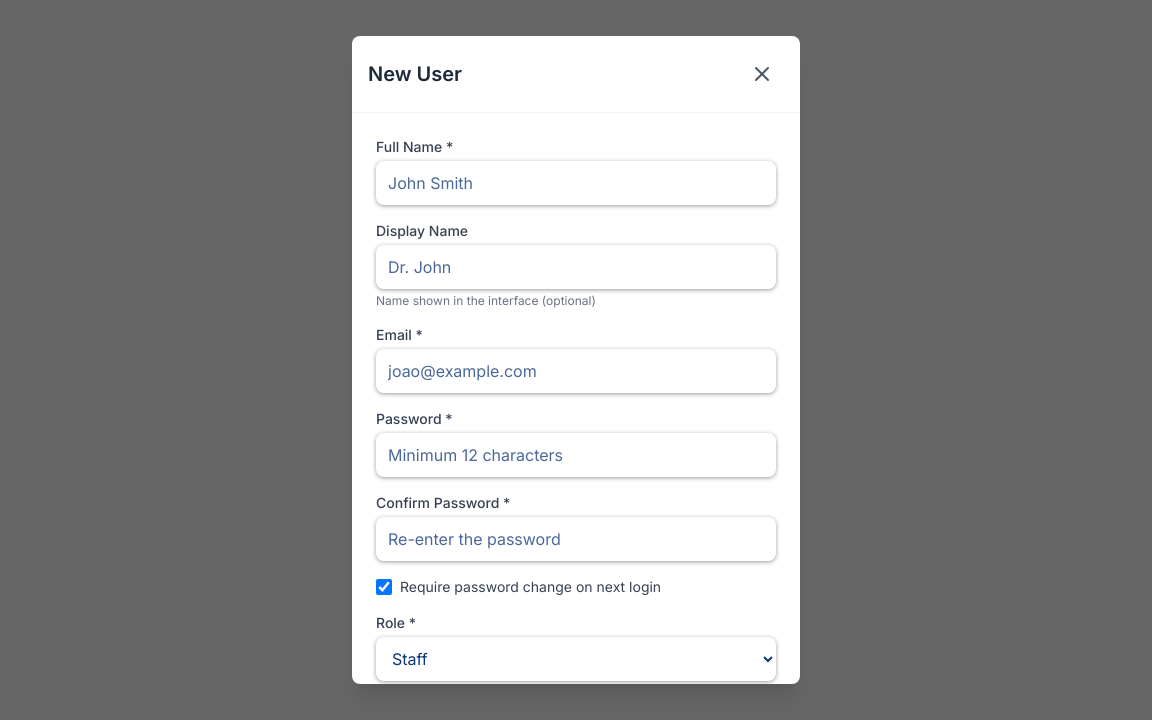
Test case: UserForm › Create Mode › should validate email format
Note: Fill form with invalid email
Type "John Doe" into the field labelled "Full Name *" at x=576, y=183, box [376, 161, 776, 205]
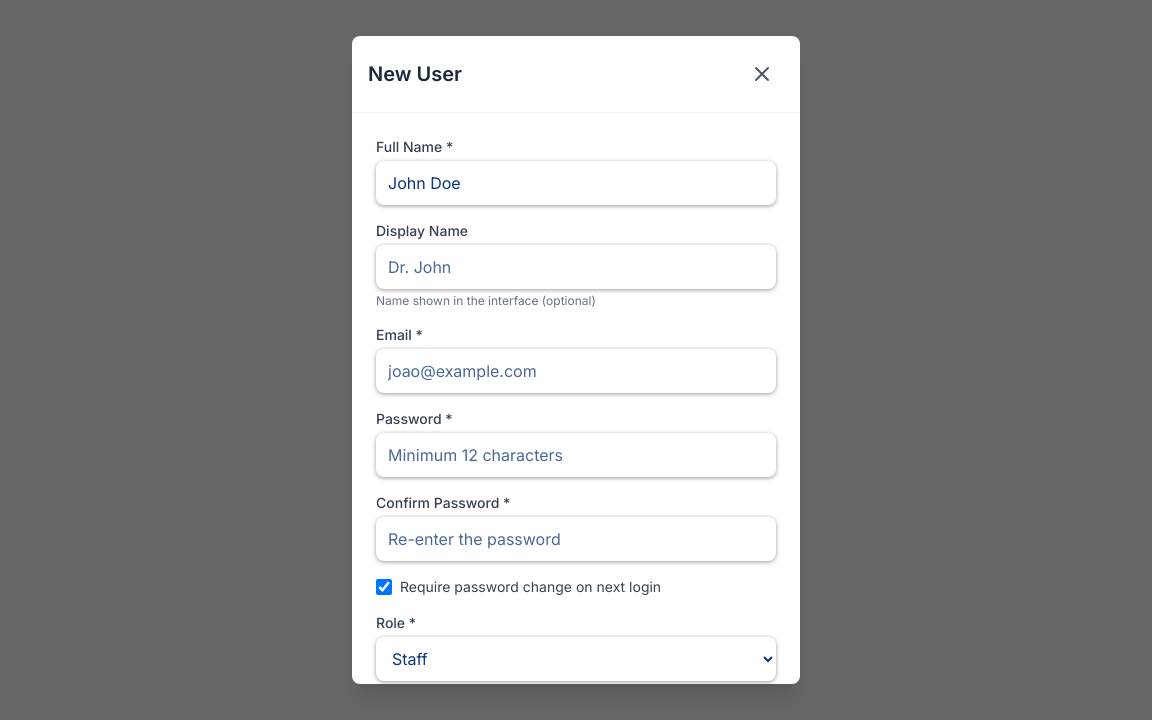
Type "invalid-email" into the field labelled "Email *" at x=576, y=371, box [376, 349, 776, 393]
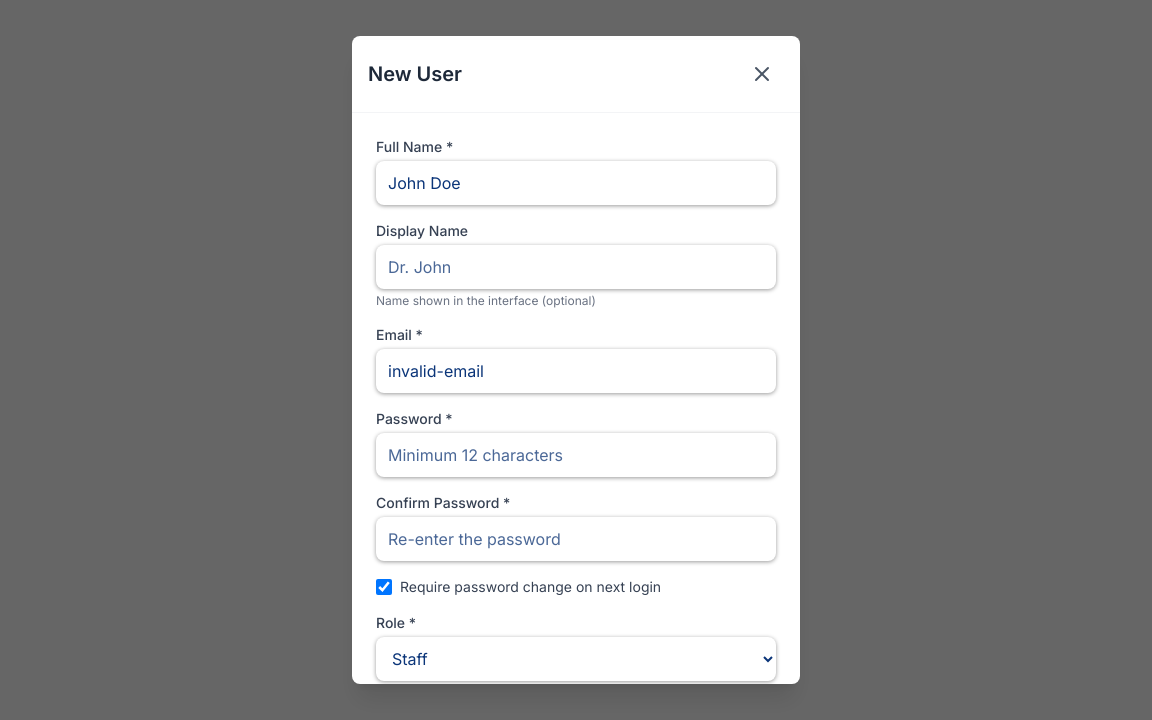
Type "ValidPassword123" into the password field labelled "Password *" at x=576, y=455, box [376, 433, 776, 477]
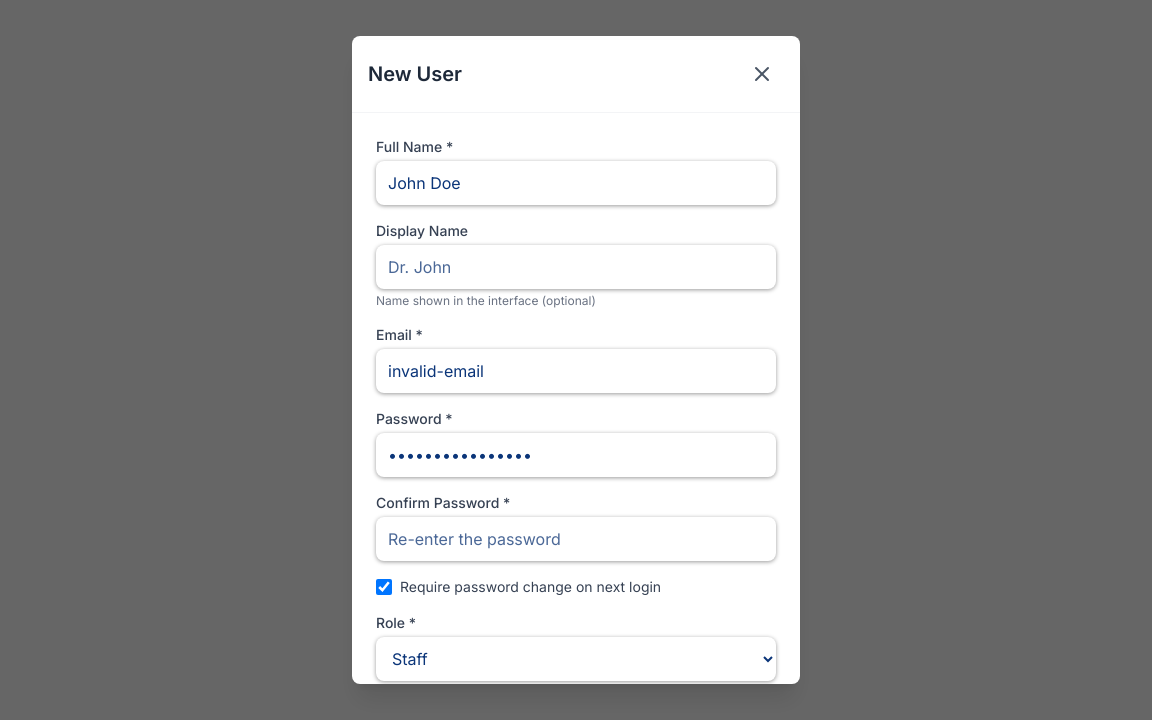
Type "ValidPassword123" into the password field labelled "Confirm Password *" at x=576, y=539, box [376, 517, 776, 561]
(page scrolled)
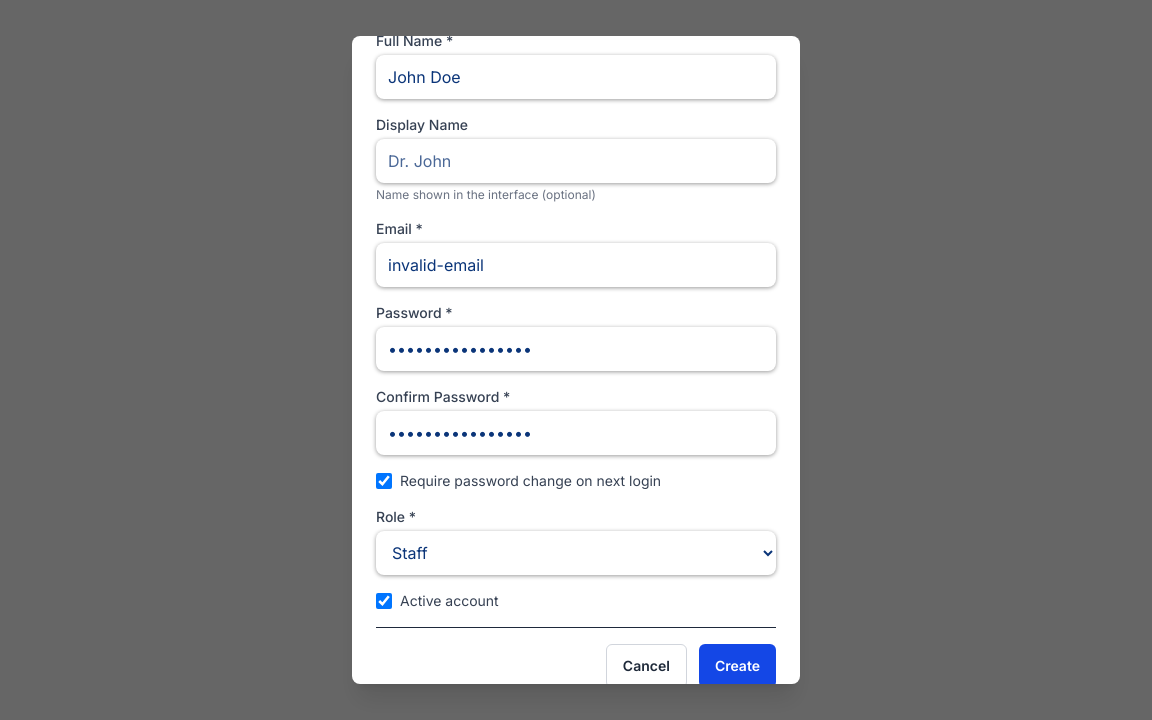
Submit the form named "Create", box [352, 7, 800, 712]
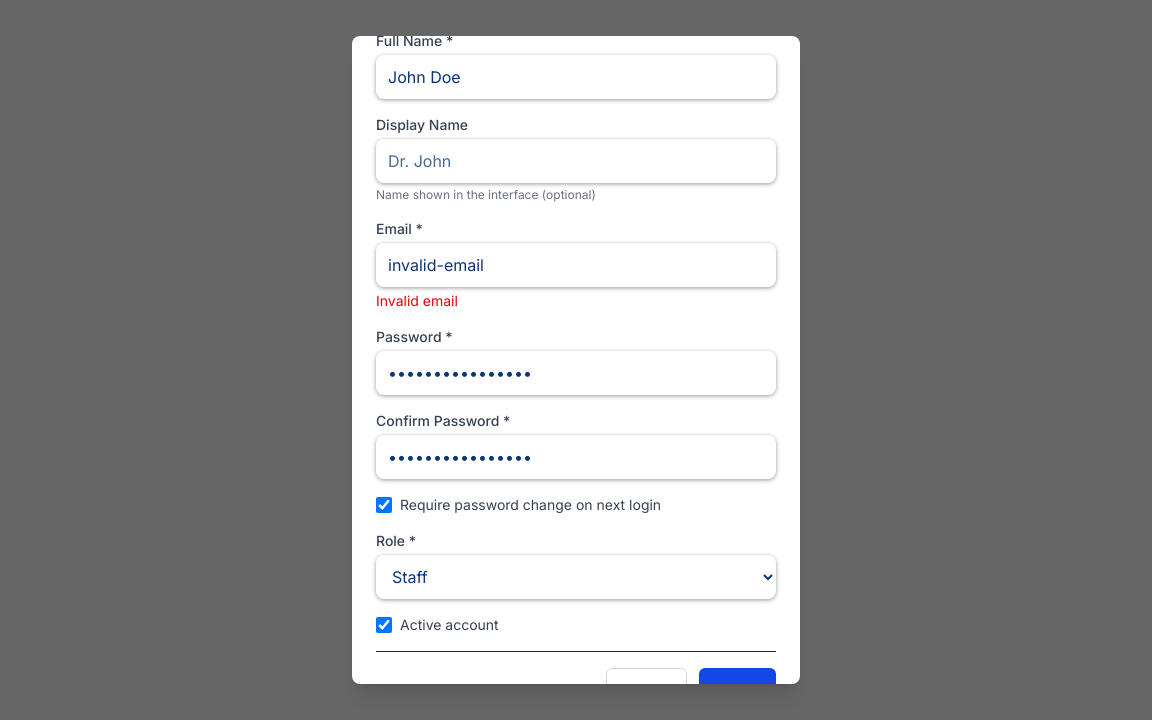
Expected: the text "Invalid email" is shown, [376, 292, 458, 309]
